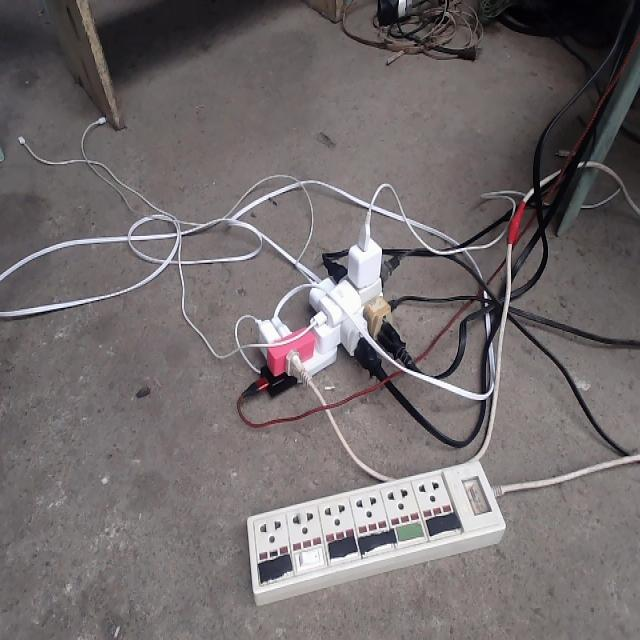-: (245, 208, 423, 401)
